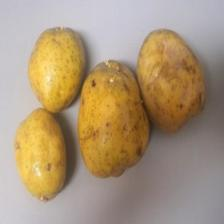Potato: (77, 55, 152, 178), (136, 26, 211, 134), (27, 23, 89, 117), (14, 103, 66, 212)
